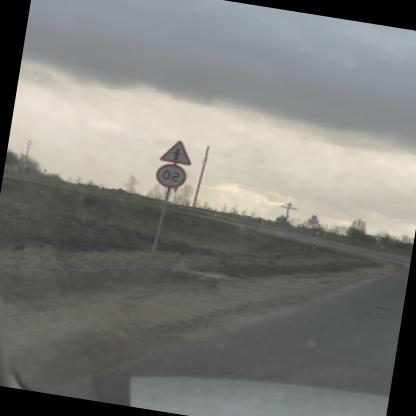speedlimit: (156, 160, 191, 188)
